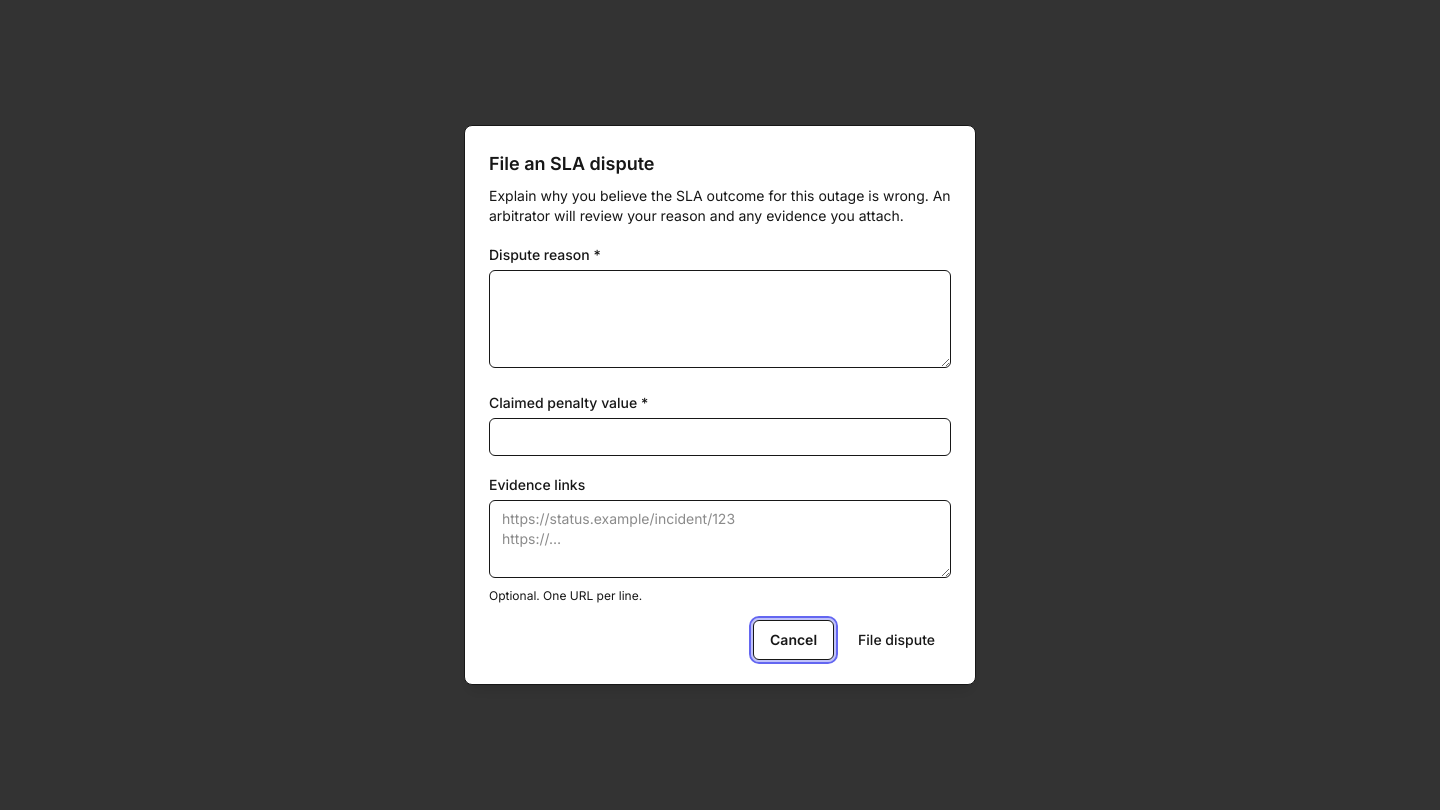
Test: DisputeModal › blocks submission on a malformed evidence link
This screenshot has width=1440, height=810.
In the text box labelled "Dispute reason *": (720,319) [489,270,951,368], type "Availability was miscalculated for the window."
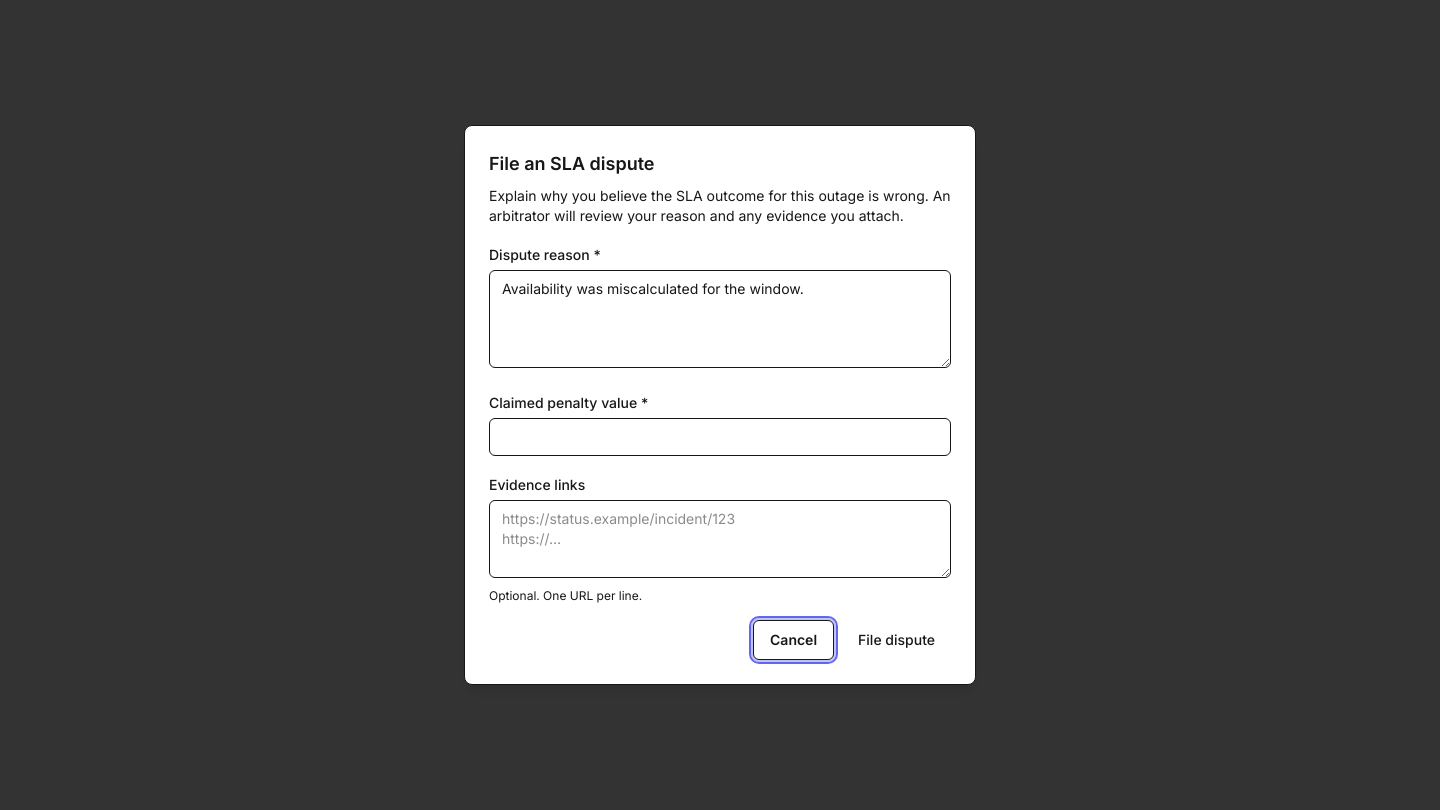
In the field labelled "Claimed penalty value *": (720,437) [489,418,951,456], type "250"
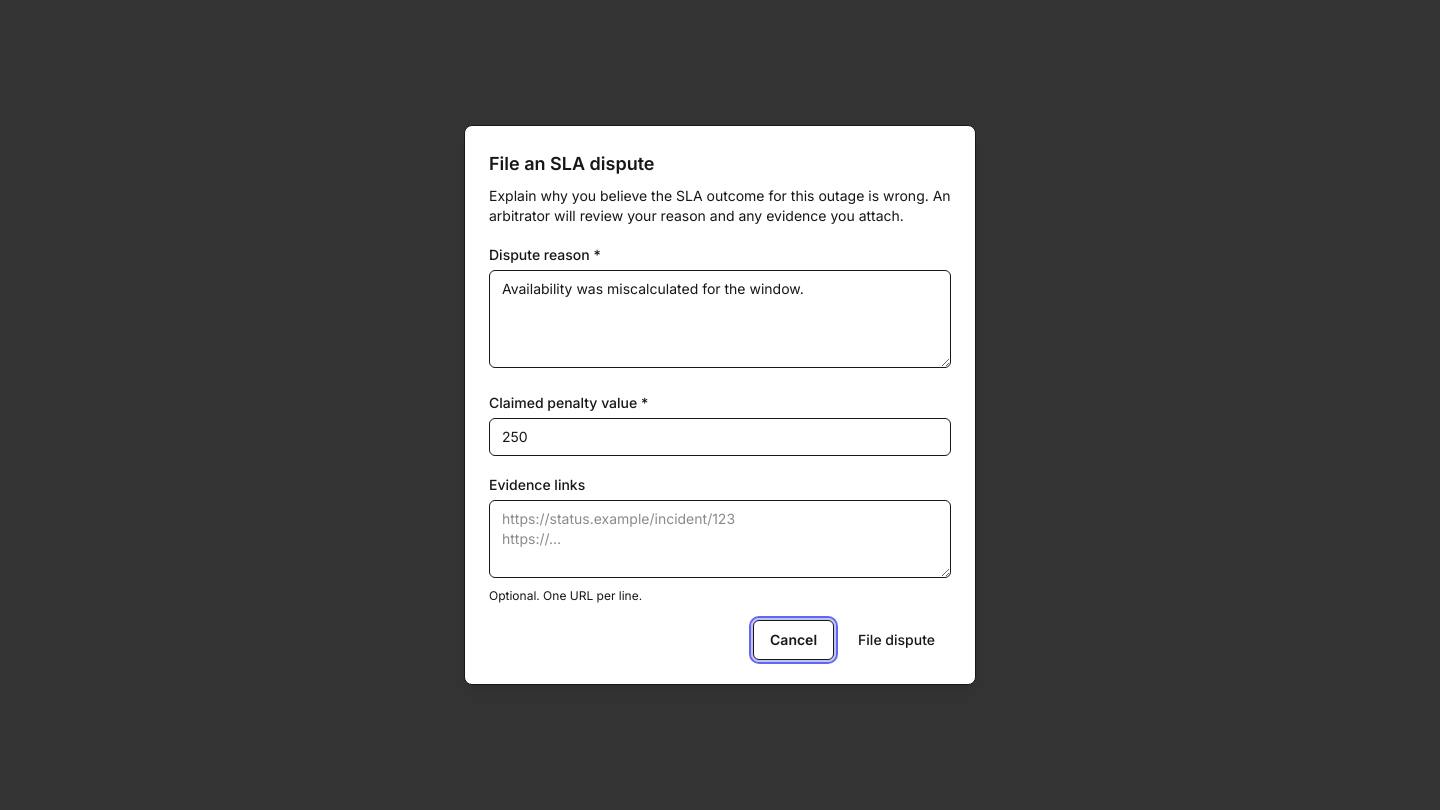
In the text box labelled "Evidence links": (720,539) [489,500,951,578], type "ftp://nope"
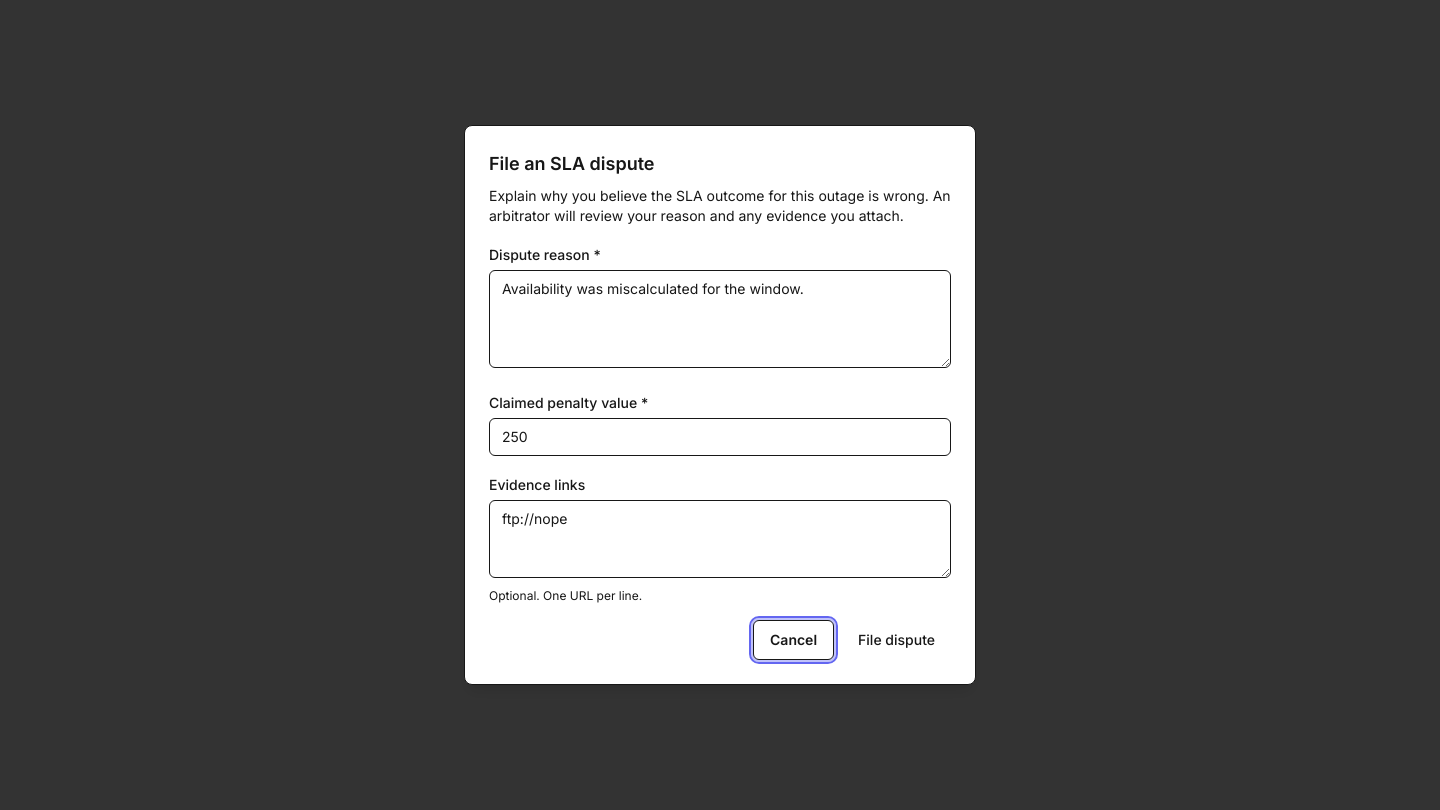
Click the button "File dispute": (897,640) [842,620,951,660]
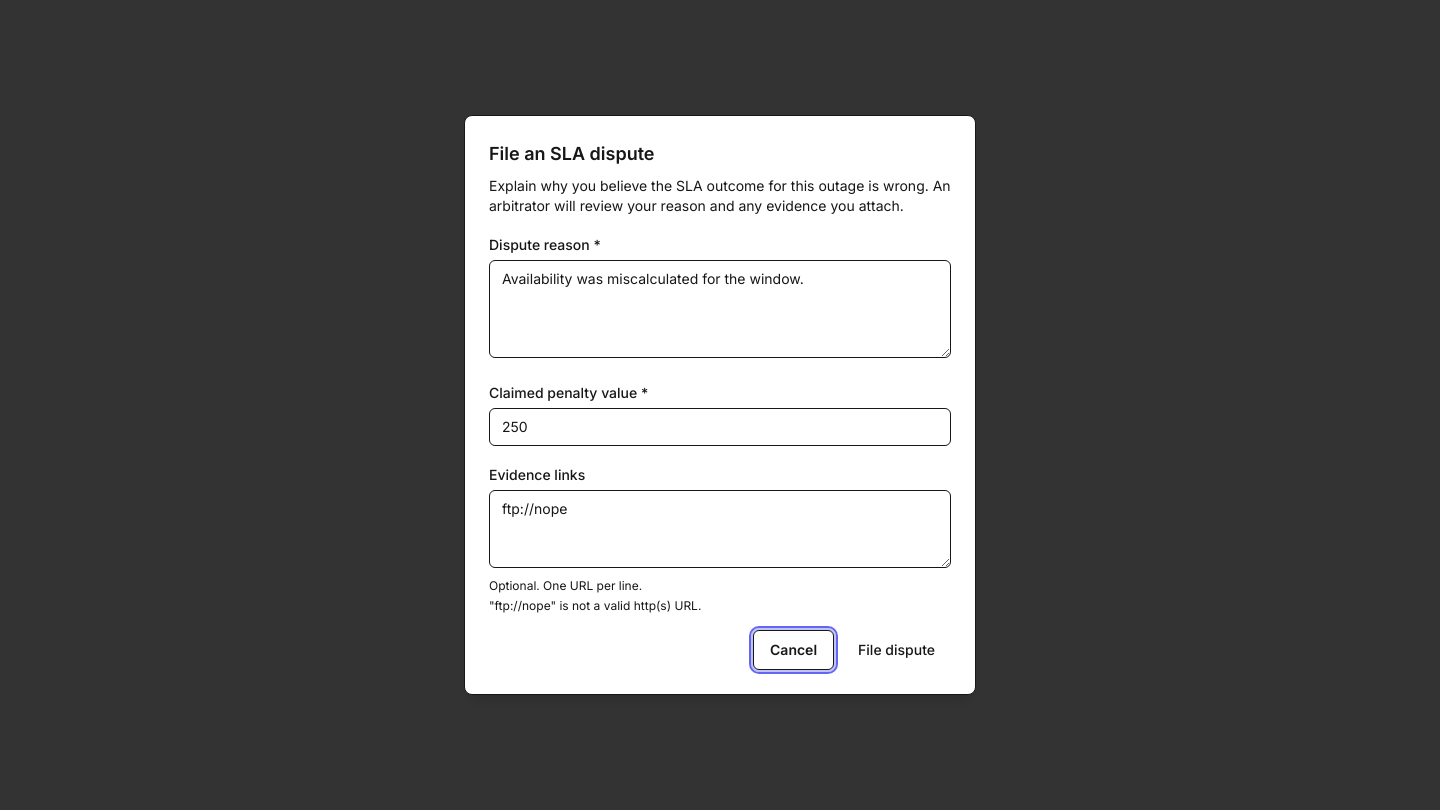
Expected: the text "\"ftp://nope\" is not a valid http(s) URL." is shown, [489,598,701,613]
